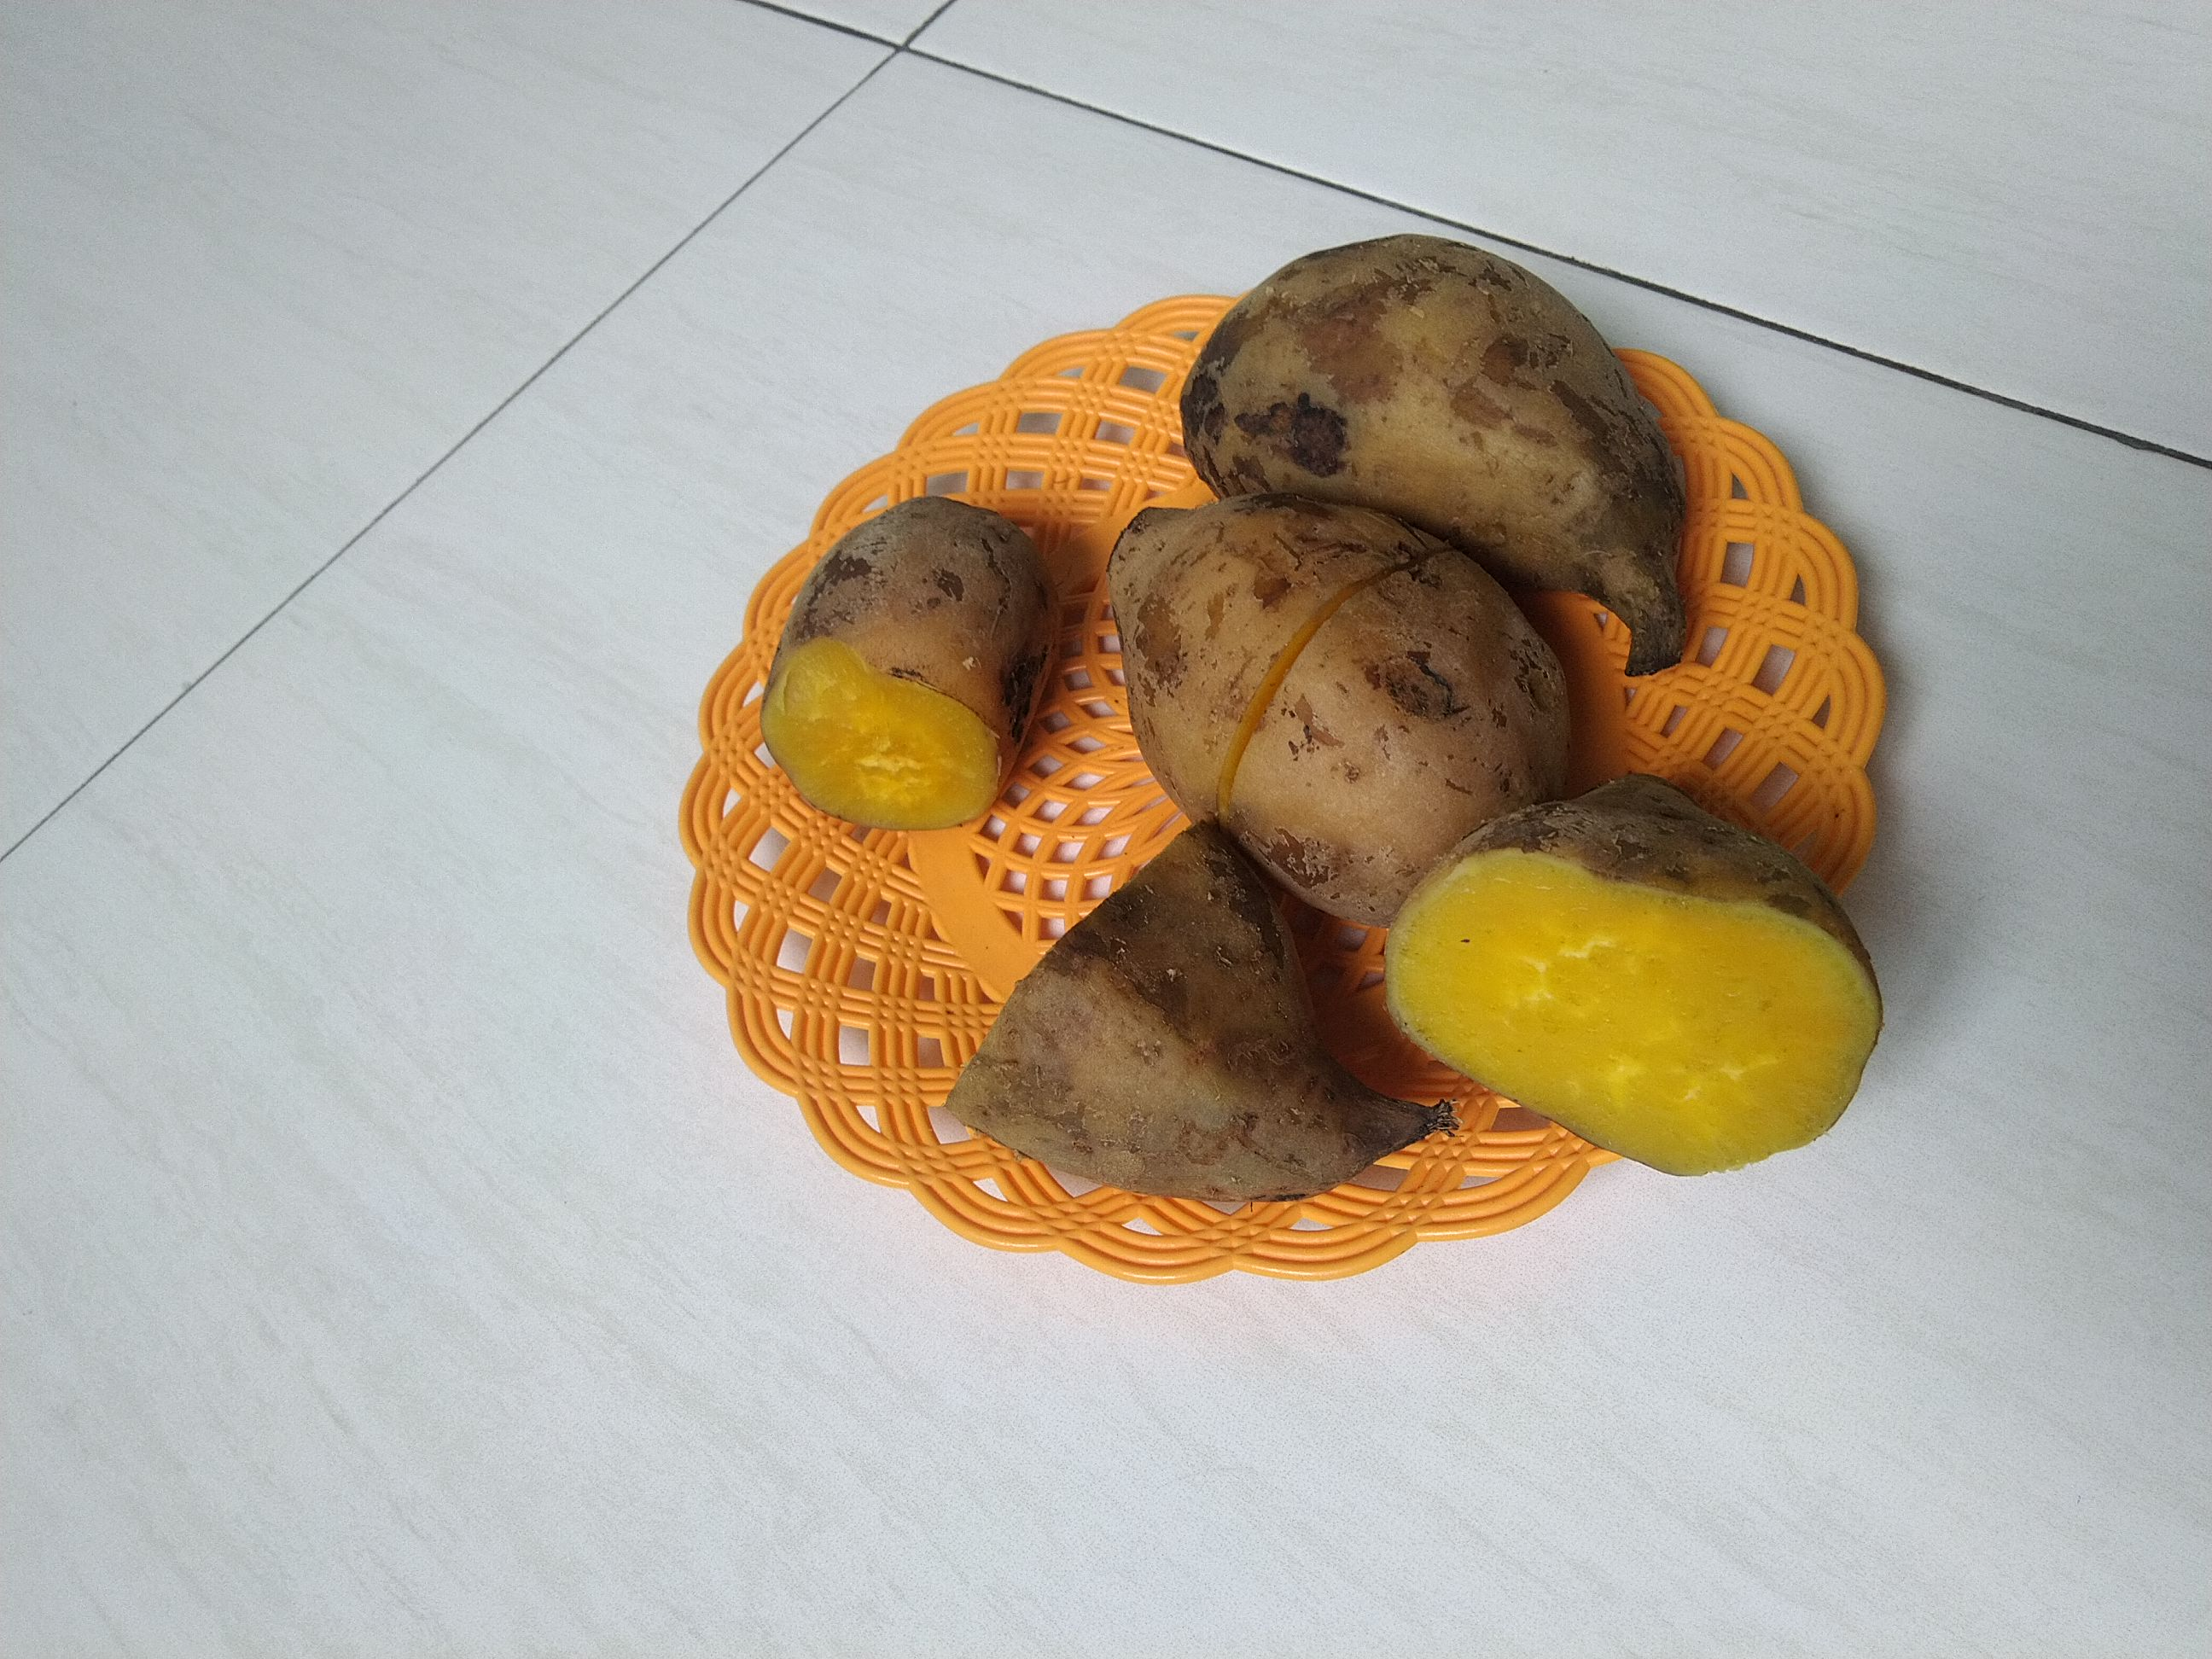ubi kuning: (1169, 230, 1740, 676), (1374, 760, 1890, 1182), (1099, 488, 1583, 922), (932, 829, 1467, 1222), (758, 484, 1055, 835)
